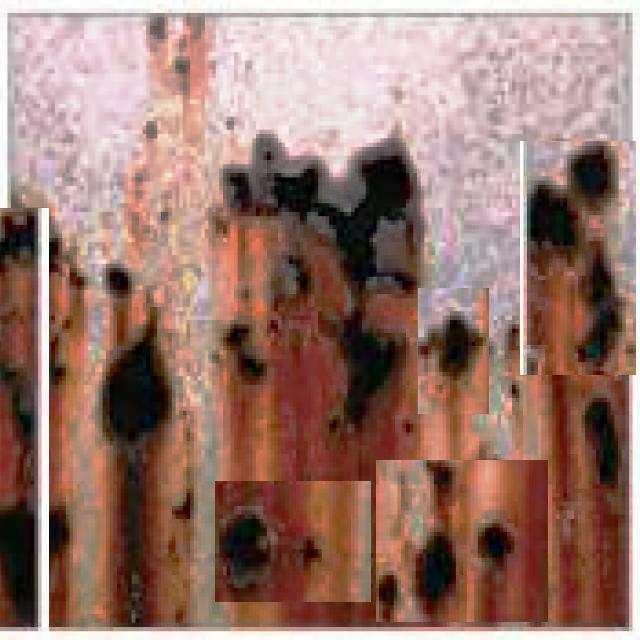Corrosion: (215, 135, 420, 482), (102, 296, 189, 627), (529, 144, 624, 376), (0, 209, 47, 628), (551, 376, 629, 627), (298, 483, 372, 604), (216, 483, 288, 602)
